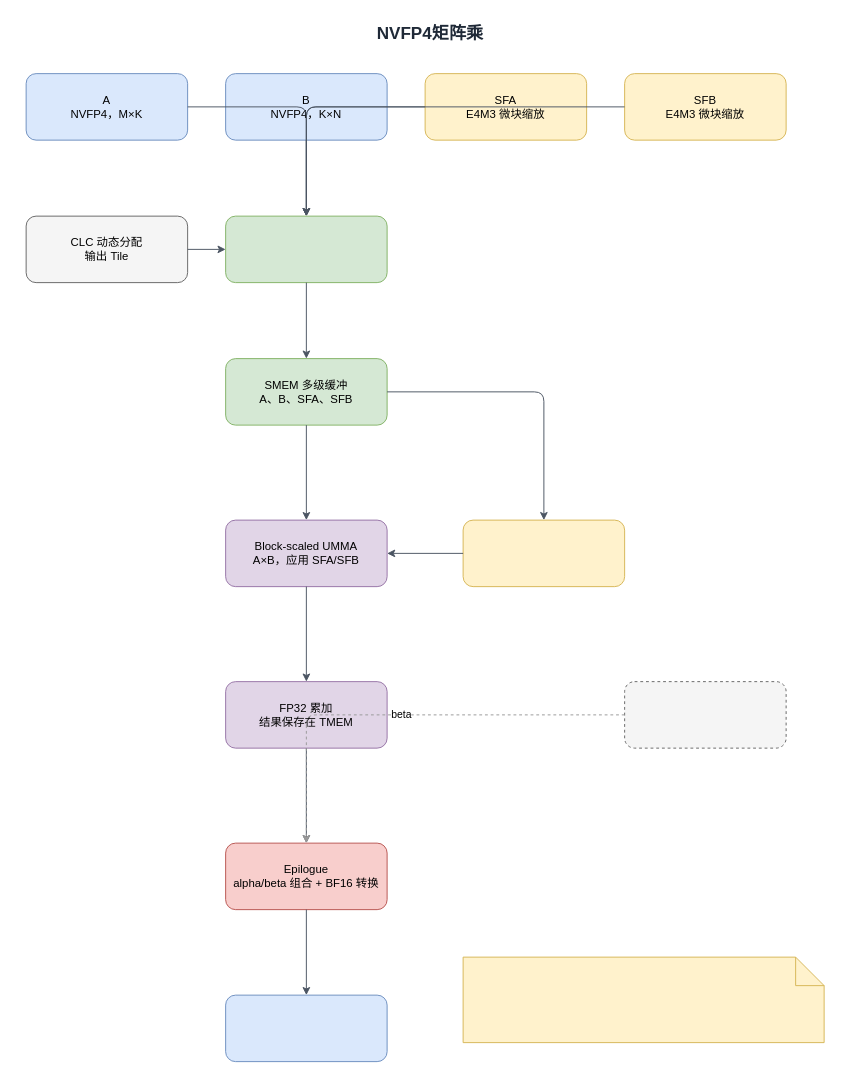
Some shapes in this 859 by 1078 pixel diagram are drawn without their labels. Each missing label, with the centre of its shape:
D BF16，M×N: the point at 306,1028
TMA Load 生产者 warp 预取: the point at 306,249
可选 C 当前 beta=0 不读取: the point at 705,714
数据搬运、Tensor Core 计算与输出由不同 warp group 并行推进: the point at 643,999
缩放因子搬运 SMEM → TMEM: the point at 543,553
